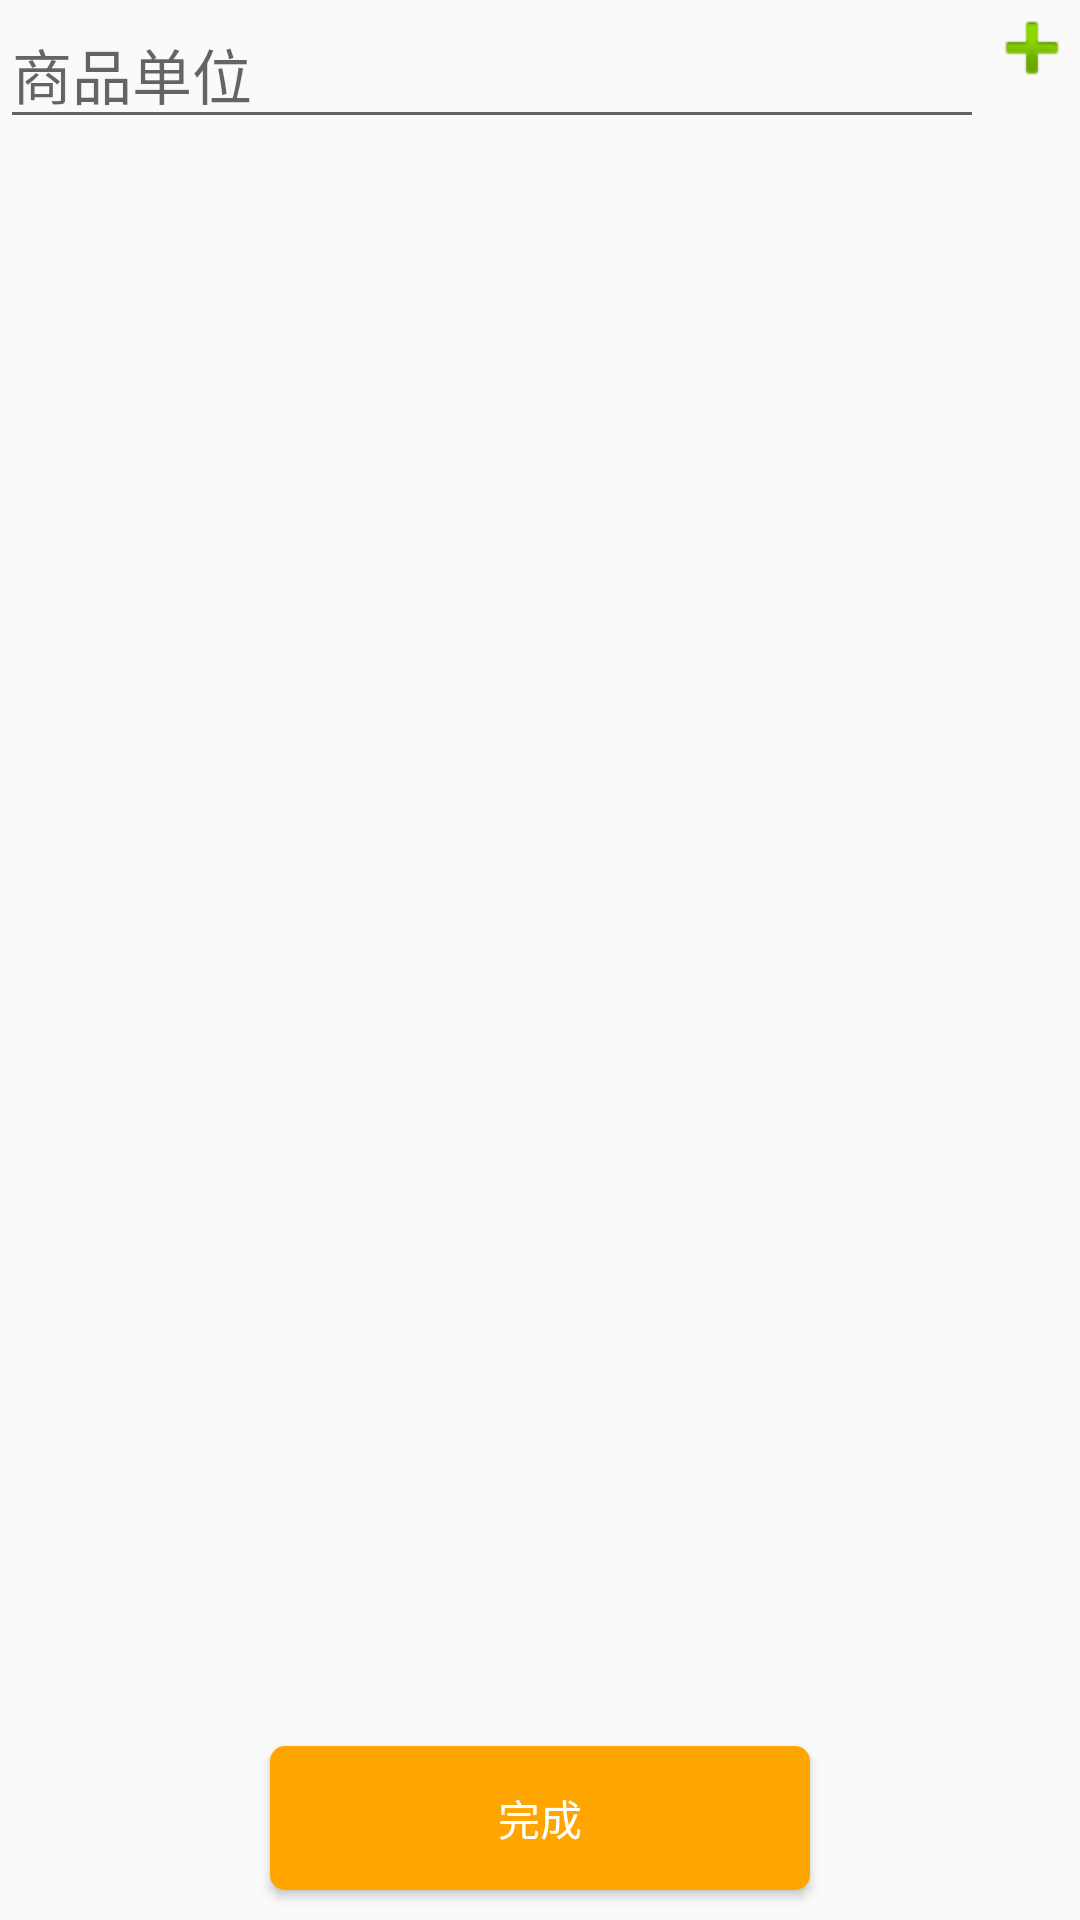

Locate icon controls on the screen. Image size 1080px×1920px, boxes as (x1, y1, x2, y2).
add: (1005, 21, 1059, 75)
